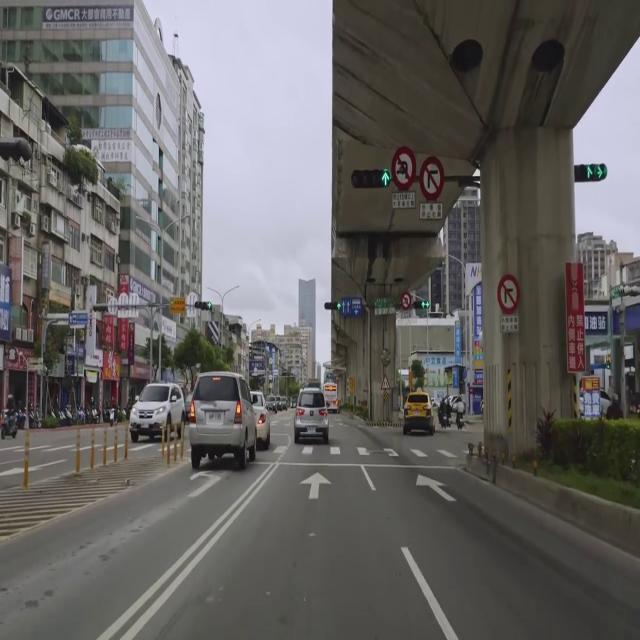green light: (351, 169, 391, 190), (575, 161, 606, 183), (194, 300, 212, 312), (324, 301, 341, 311), (412, 300, 430, 308)
